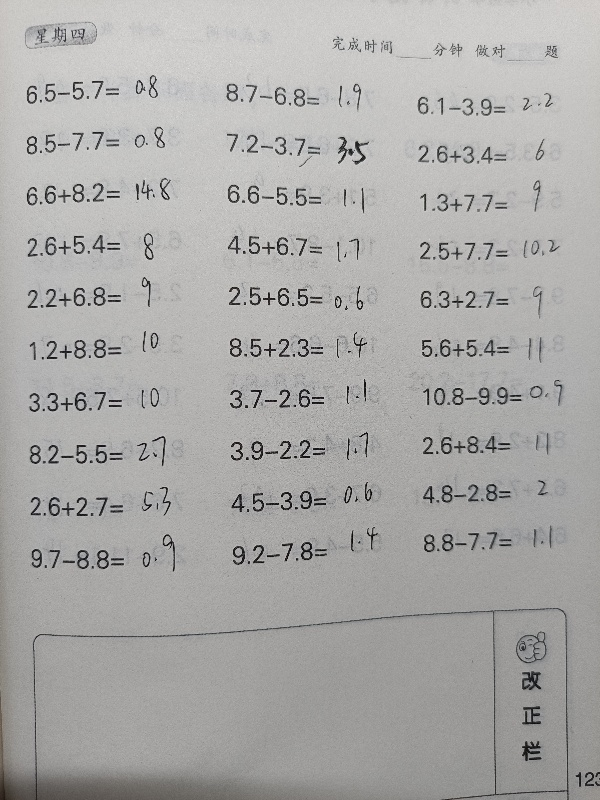equation: (217, 128, 397, 173), (415, 371, 595, 413), (221, 325, 401, 366), (220, 278, 400, 318), (20, 383, 200, 419), (22, 541, 202, 576), (223, 535, 403, 570), (22, 489, 202, 524), (222, 484, 402, 519), (21, 437, 201, 472), (221, 432, 401, 467), (221, 381, 401, 416), (20, 331, 200, 366), (19, 279, 199, 314), (18, 227, 198, 262), (17, 176, 197, 211), (17, 124, 197, 159), (17, 73, 197, 108), (414, 524, 594, 558), (413, 476, 593, 510), (413, 331, 593, 365), (411, 234, 591, 268), (218, 228, 398, 262), (412, 186, 592, 220), (218, 178, 398, 212), (409, 137, 589, 171), (408, 89, 588, 123), (217, 78, 397, 112), (413, 428, 593, 461), (412, 283, 592, 316)
